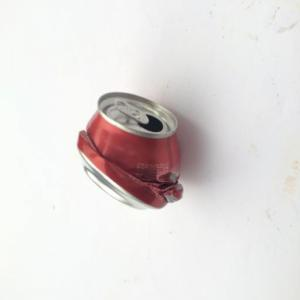Can: (77, 91, 185, 212)
